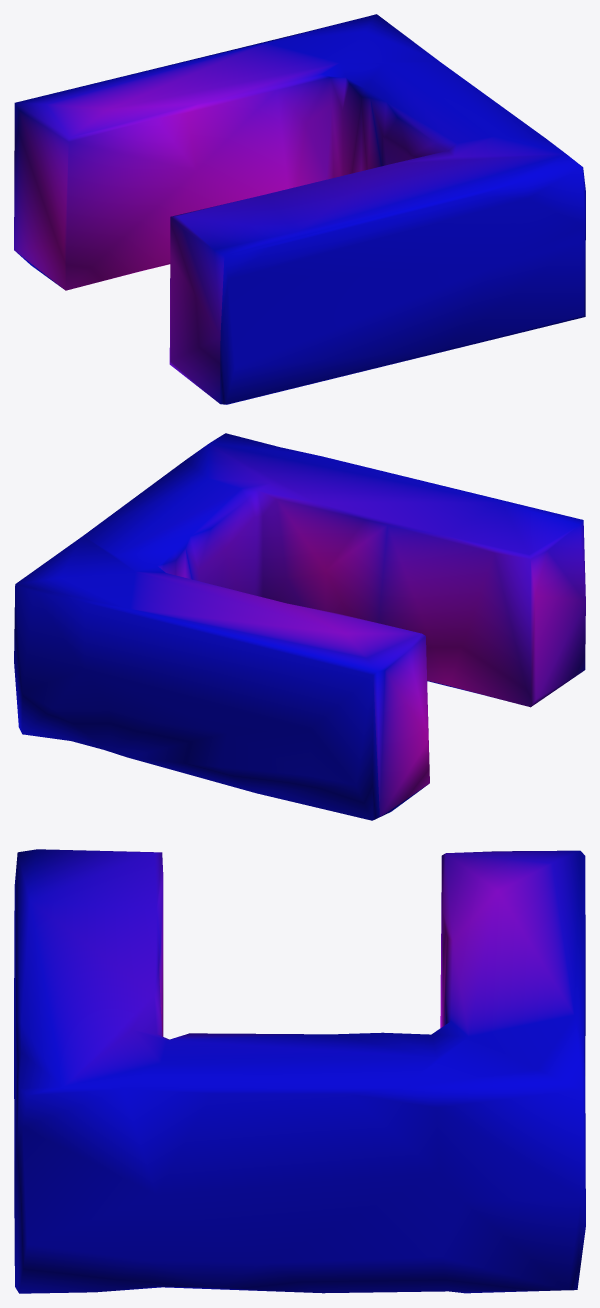
The model's file is SM_Floor_Tile_Hole_C.FBX.
3 views of the same model, one above another, from view 1: azimuth 30°, elevation 25°; view 2: azimuth 150°, elevation 25°; view 3: azimuth 270°, elevation 25° (orthographic). The views are drawn at different scales.
Visible parts, largest first — view 1: SM_Floor_Tile_Hole_C; view 2: SM_Floor_Tile_Hole_C; view 3: SM_Floor_Tile_Hole_C.
Part boxes in pixels (box(x1,y1,x2,y2)): SM_Floor_Tile_Hole_C: box(14, 14, 585, 404); SM_Floor_Tile_Hole_C: box(14, 433, 585, 820); SM_Floor_Tile_Hole_C: box(14, 849, 585, 1293).
Size of what is drawn, in the model's own units: 200 by 200 by 79.98.
